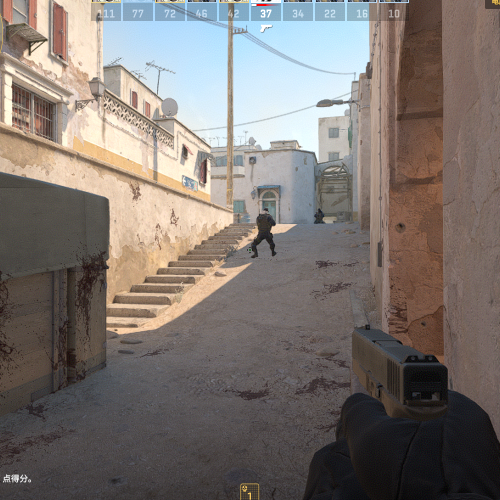ct_body: (252, 207, 277, 258), (313, 208, 326, 225)
ct_head: (259, 208, 270, 214)
